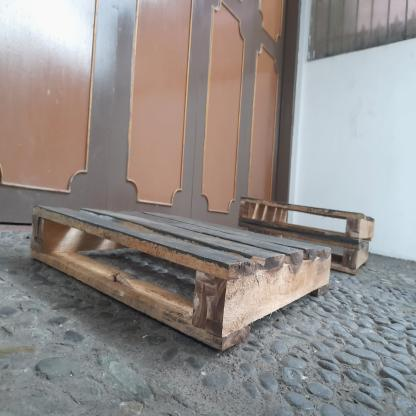Wooden-Pallet: (31, 202, 333, 360), (237, 196, 376, 244)
